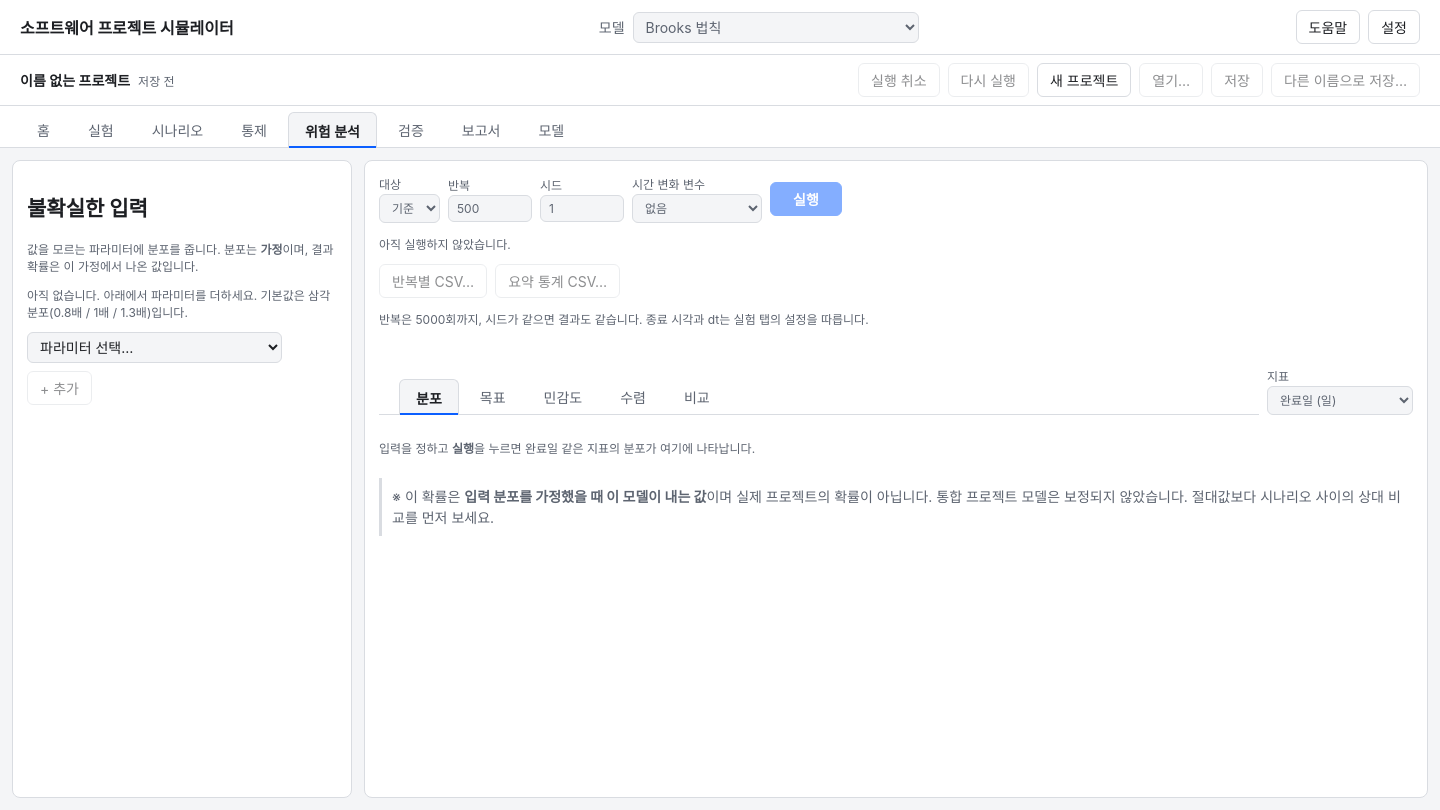
Test: 모든 탭을 그려 본다 (화면 스모크) › 검증 탭이 오류 없이 그려진다
The width and height of the screenshot is (1440, 810).
Click the tab "검증".
click(411, 130)  # box [381,112,441,147]
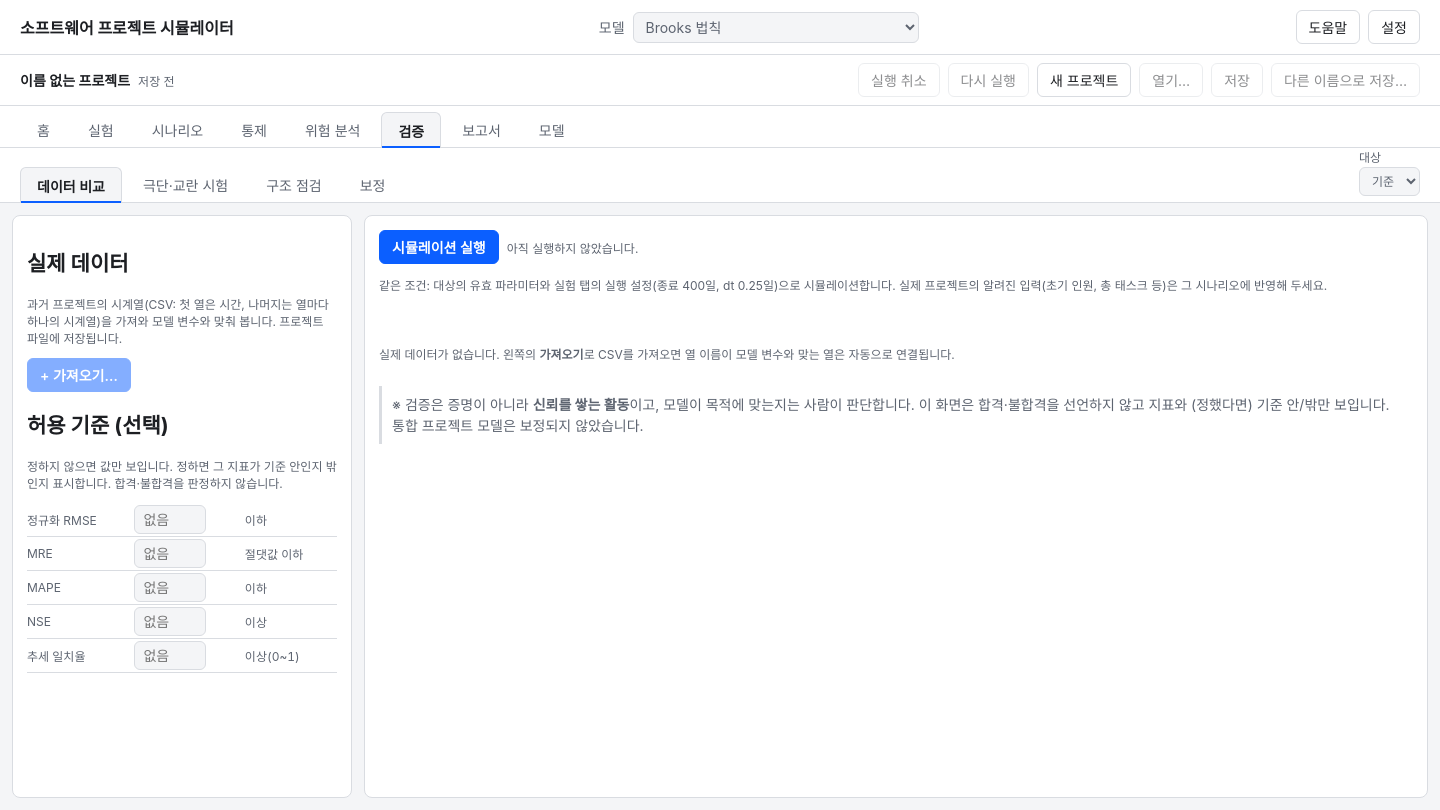
Result: the panel is shown
